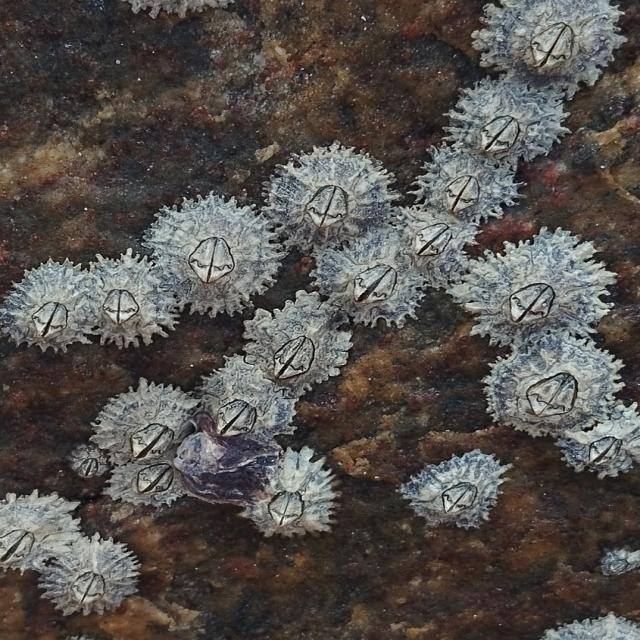barnacles: (472, 240, 616, 353), (165, 199, 282, 315), (482, 339, 624, 433), (443, 83, 581, 172), (467, 0, 623, 77), (269, 144, 387, 238), (402, 451, 522, 535), (249, 303, 357, 393), (328, 236, 422, 339), (234, 460, 340, 545), (49, 543, 148, 633), (199, 369, 302, 452), (6, 259, 87, 363), (552, 401, 639, 488), (100, 381, 184, 468), (0, 489, 82, 576), (97, 260, 179, 345), (394, 208, 473, 288), (424, 155, 512, 223), (112, 464, 185, 520), (61, 440, 110, 489)
